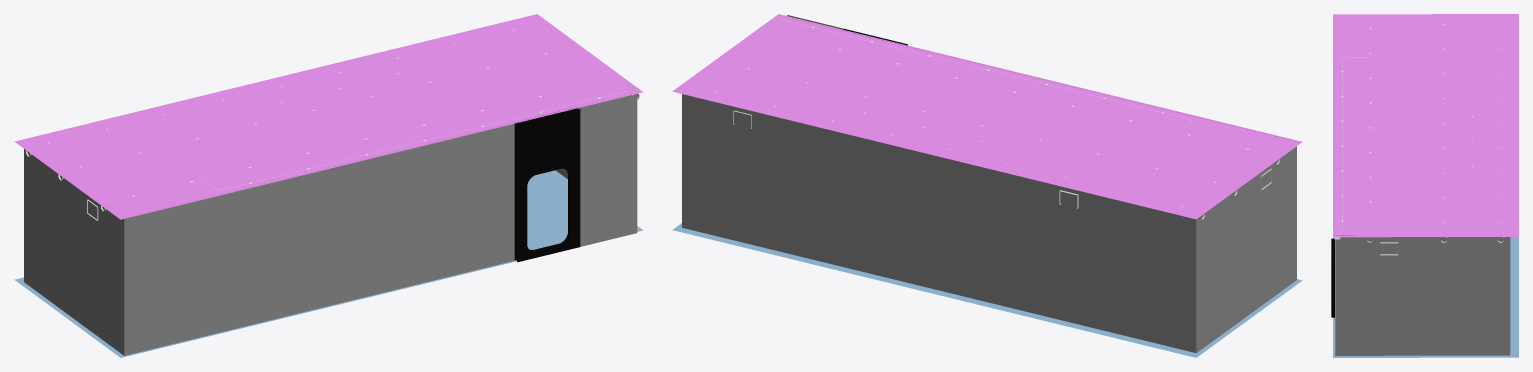
File: kitchen.FBX
3 renders of one model, left to right at view 1: azimuth 30°, elevation 25°; view 2: azimuth 150°, elevation 25°; view 3: azimuth 270°, elevation 25°, orthographic. The views are drawn at different scales.
Visible parts, largest first — view 1: Object138, Box037, Object139, Cylinder010; view 2: Object138, Box037; view 3: Box037, Object138, Cylinder010, Object139.
Boxes of the visible parts, x1,y1,x2,y2 form: Object138: (24,92,637,355); Box037: (14,14,643,357); Object139: (514,108,580,262); Cylinder010: (26,29,639,211); Object138: (682,15,1296,353); Box037: (672,14,1302,357); Box037: (1333,14,1518,357); Object138: (1335,235,1510,355); Cylinder010: (1334,23,1504,242); Object139: (1331,238,1334,317).
Bounding box in the file's own units: 122 × 30.92 × 43.31.
